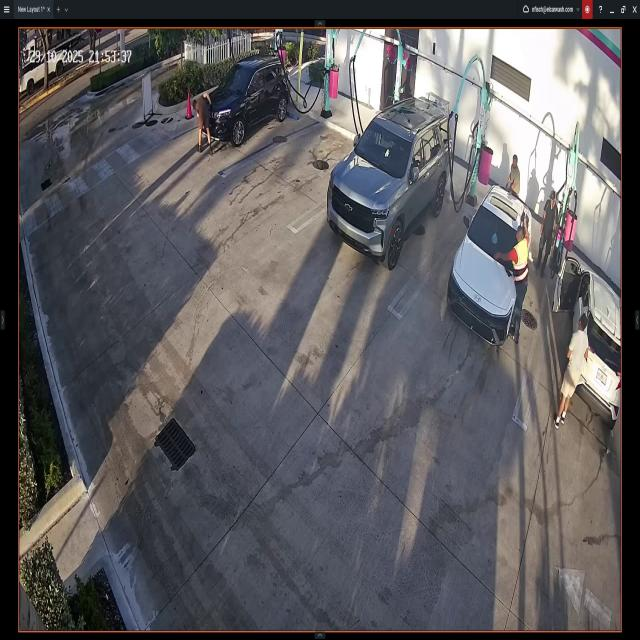Car: (328, 96, 448, 266), (450, 187, 532, 348), (562, 254, 619, 427), (203, 58, 289, 149)
